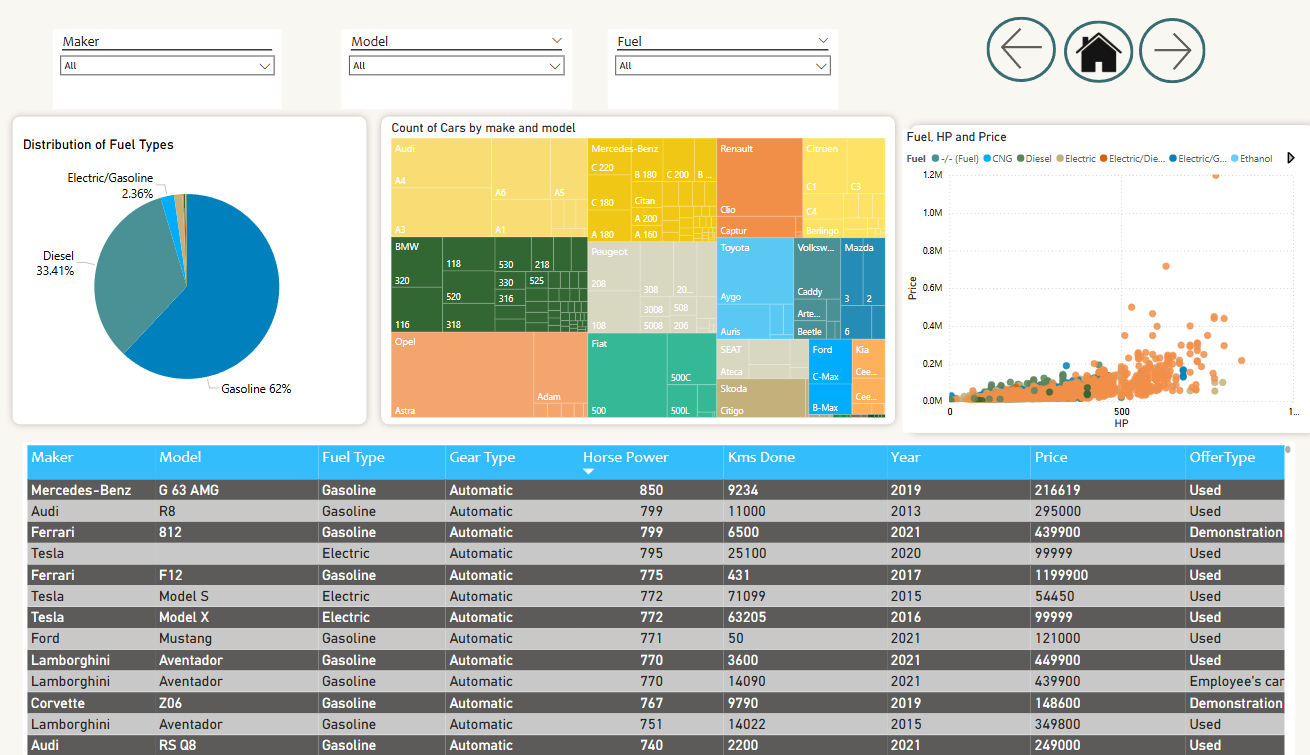

Layout of this report page (visuals, bound fields, positions):
{"tool":"powerbi","page":{"name":"Page 3","canvas":[1800,1100],"ordinal":2},"visuals":[{"type":"shape","box":[1229.4,217.5,571.4,438.7],"z":0},{"type":"shape","box":[510.6,206.4,718.8,438.7],"z":1000},{"type":"shape","box":[9.2,206.4,501.3,438.7],"z":2000},{"type":"pieChart","title":"Distribution of Fuel Types","fields":{"Category":["fuel_distribution.fuel"],"Y":["Sum(fuel_distribution.count)"]},"box":[27.6,243.3,457.1,387.1],"z":3000},{"type":"treemap","fields":{"Details":["Car_analysis.model"],"Group":["Car_analysis.make"],"Values":["Car_analysis.Count of Cars"]},"box":[529,221.2,682,409.2],"z":4000},{"type":"scatterChart","fields":{"X":["Car_analysis.hp"],"Y":["Car_analysis.price"],"Series":["Car_analysis.fuel"]},"box":[1229.4,232.2,547.4,412.9],"z":5000},{"type":"slicer","fields":{"Values":["Car_analysis.make"]},"box":[73.7,97.7,311.5,108.7],"z":6000},{"type":"slicer","fields":{"Values":["Car_analysis.model"]},"box":[466.3,97.7,313.3,108.7],"z":7000},{"type":"slicer","fields":{"Values":["Car_analysis.fuel"]},"box":[827.6,97.7,313.3,108.7],"z":8000},{"type":"shape","box":[1343.1,79.1,94.6,88.8],"z":9000},{"type":"actionButton","box":[1356.6,88.8,81,69.5],"z":10000},{"type":"actionButton","box":[1565,94.6,63.7,63.7],"z":11000},{"type":"shape","box":[1551.5,81,90.7,88.8],"z":12000},{"type":"image","box":[1437.6,81,117.7,92.6],"z":13000},{"type":"shape","box":[1449.2,84.9,94.6,84.9],"z":14000},{"type":"tableEx","fields":{"Values":["Car_analysis.make","Car_analysis.model","Car_analysis.fuel","Car_analysis.gear","Car_analysis.hp","Car_analysis.mileage","Car_analysis.year","Car_analysis.price","Car_analysis.offerType"]},"box":[32.8,658,1730.9,441.9],"z":15000}]}

Visuals, with their boxes on the page's 1800x1100 design canvas (x1, y1, x2, y2). These are canvas units, not pixel positions in the 1310x755 screenshot, which may show the page scaled, cropped or inside an application window:
shape: [1229,218,1801,656]
shape: [511,206,1229,645]
shape: [9,206,510,645]
"Distribution of Fuel Types" pieChart: [28,243,485,630]
treemap - Car_analysis.model x Car_analysis.make: [529,221,1211,630]
scatterChart - Car_analysis.hp x Car_analysis.price: [1229,232,1777,645]
slicer - Car_analysis.make: [74,98,385,206]
slicer - Car_analysis.model: [466,98,780,206]
slicer - Car_analysis.fuel: [828,98,1141,206]
shape: [1343,79,1438,168]
actionButton: [1357,89,1438,158]
actionButton: [1565,95,1629,158]
shape: [1552,81,1642,170]
image: [1438,81,1555,174]
shape: [1449,85,1544,170]
tableEx - Car_analysis.make x Car_analysis.model: [33,658,1764,1100]
